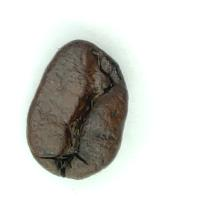NG: (44, 46, 123, 146)
